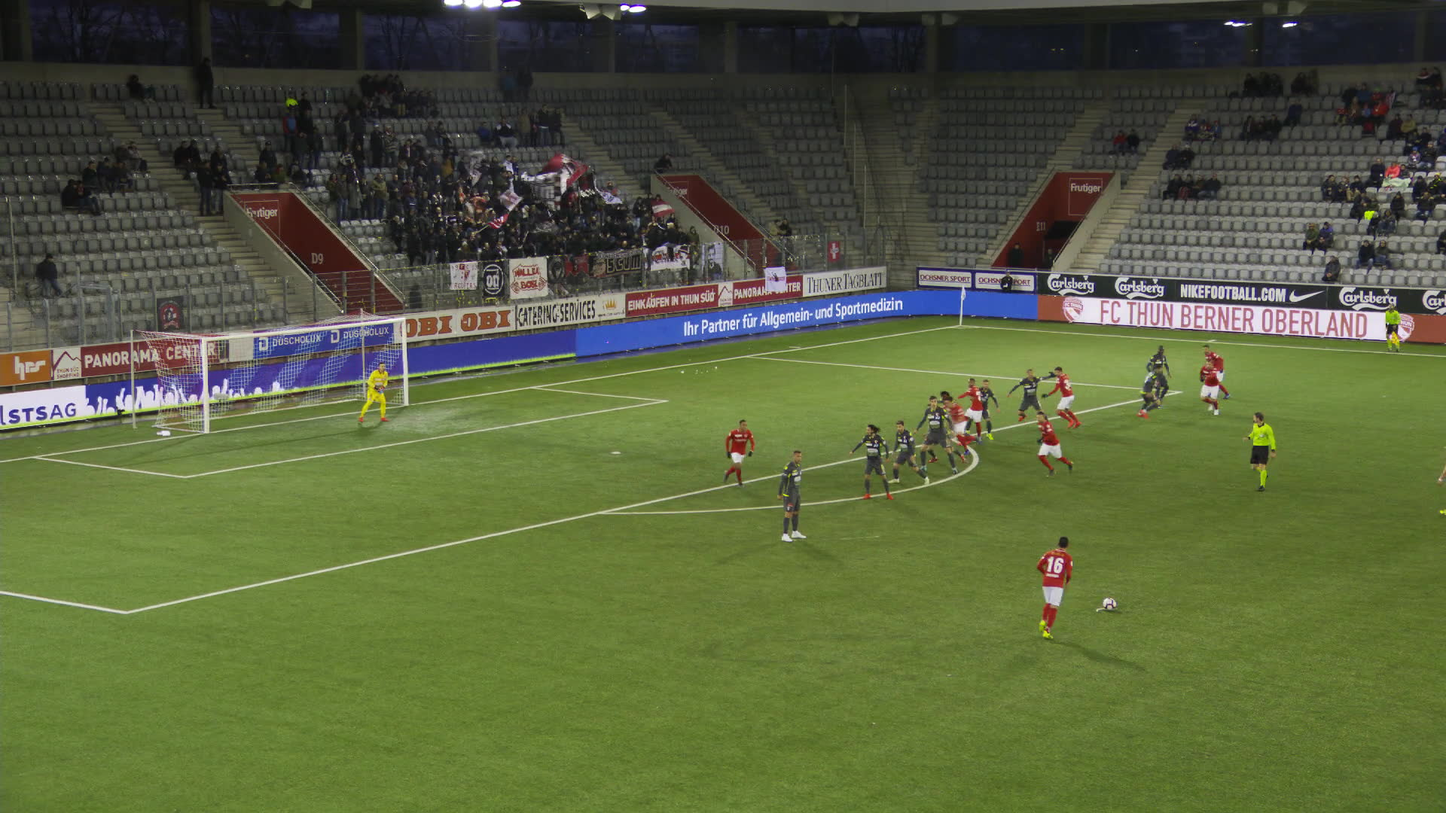ball: (1103, 596, 1116, 610)
player: (1036, 536, 1072, 639), (914, 394, 958, 475), (849, 422, 893, 501), (1008, 366, 1055, 431), (886, 416, 927, 488), (776, 449, 806, 542), (926, 395, 964, 464), (1042, 367, 1083, 430), (1035, 411, 1074, 477), (941, 395, 983, 455), (940, 387, 978, 452), (722, 419, 755, 488), (357, 361, 389, 424), (1138, 360, 1170, 420), (975, 376, 1001, 442), (1149, 345, 1175, 408), (1202, 344, 1231, 400), (959, 378, 985, 432), (1198, 358, 1222, 416)
referee: (1243, 411, 1275, 491), (1382, 303, 1404, 353)
